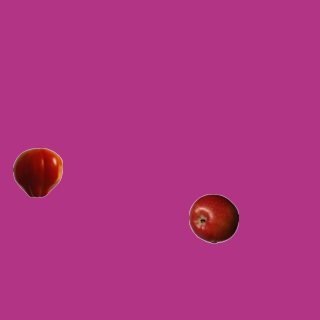Apple Braeburn: (188, 193, 238, 243)
Tomato 1: (12, 147, 62, 197)
